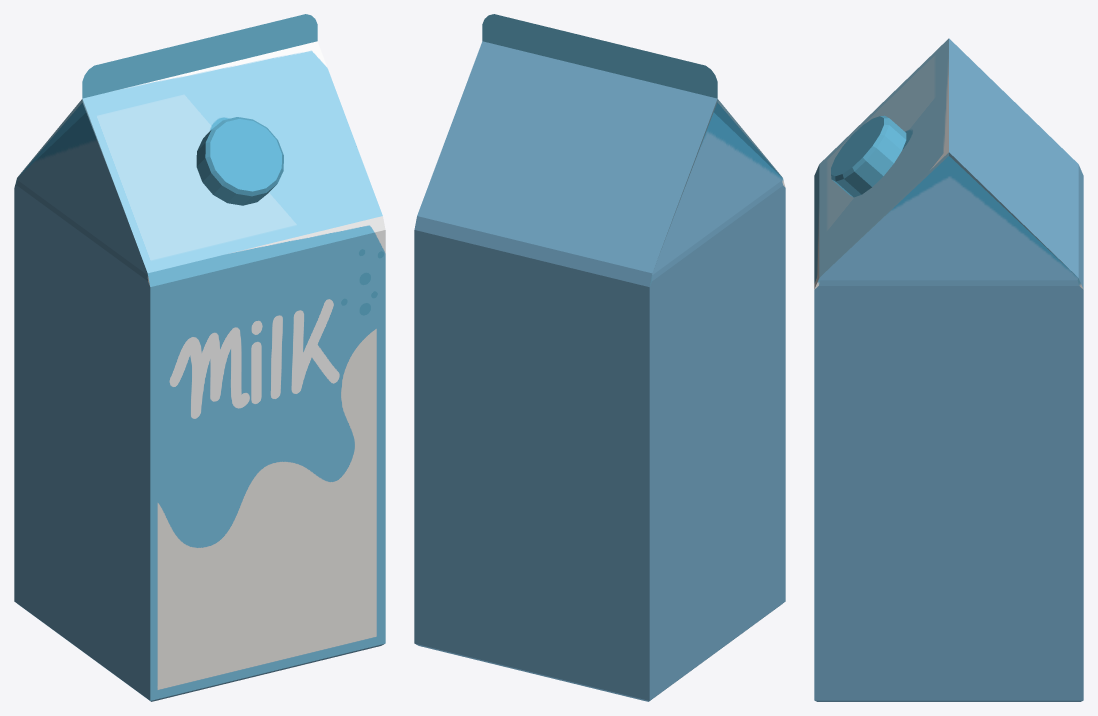
File: Milk.fbx
The picture shows the model from 3 angles, left to right: view 1: azimuth 30°, elevation 25°; view 2: azimuth 150°, elevation 25°; view 3: azimuth 270°, elevation 25°; orthographic projection.
Visible parts, largest first — view 1: Cube; view 2: Cube; view 3: Cube.
Part boxes in pixels (x1,y1,x2,y2): Cube: [14, 14, 385, 701]; Cube: [414, 14, 785, 701]; Cube: [814, 38, 1083, 701].
Size of the model in its own units: 200 by 476 by 200.
Materials: 1 (1 with a texture image).
